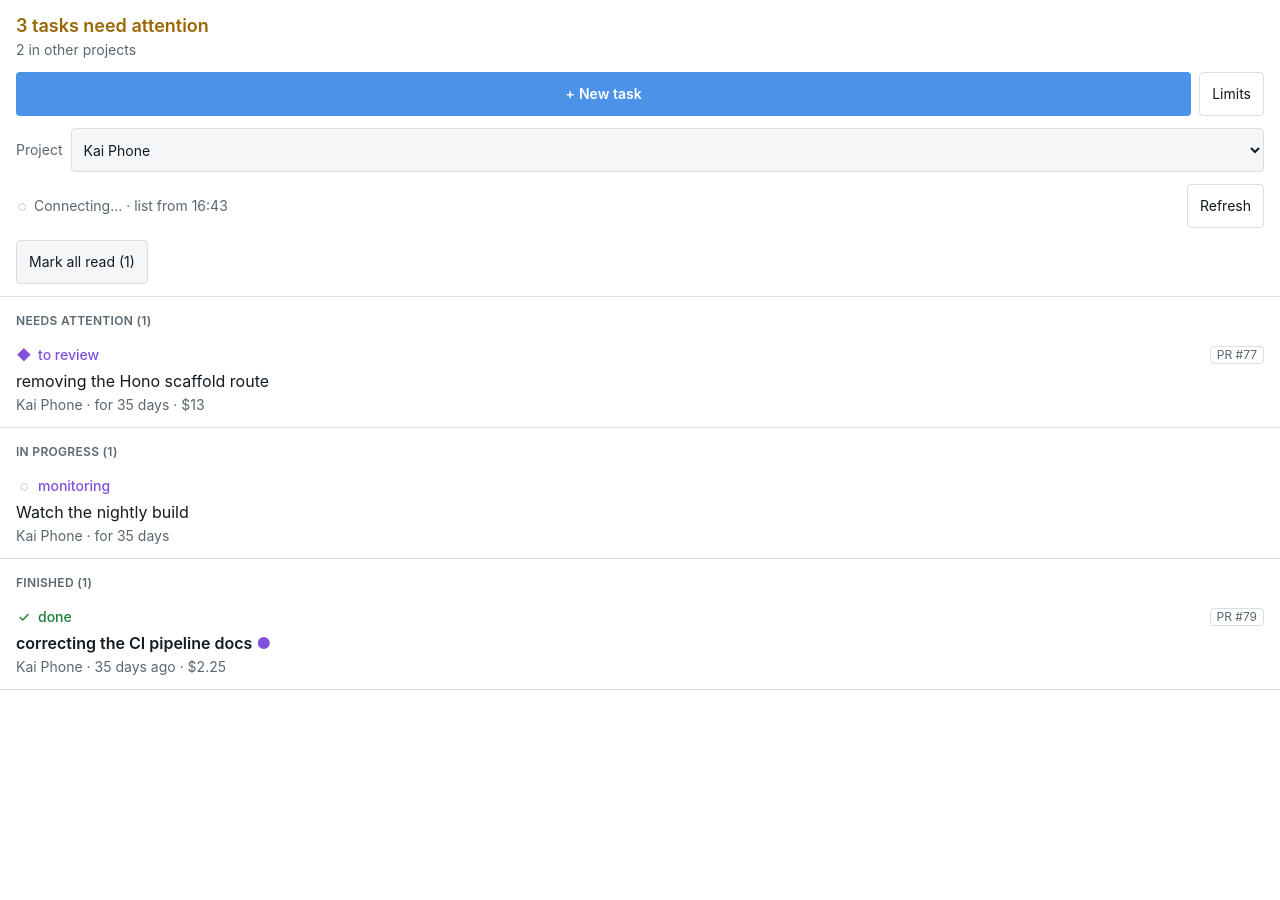
Test: mark all read (#67) › reaches only the filtered project
What coordinates should you click on to do the following:
click the button "Mark all read (1)"
I would click on:
 (82, 262)
Its box is left=16, top=240, right=148, bottom=284.
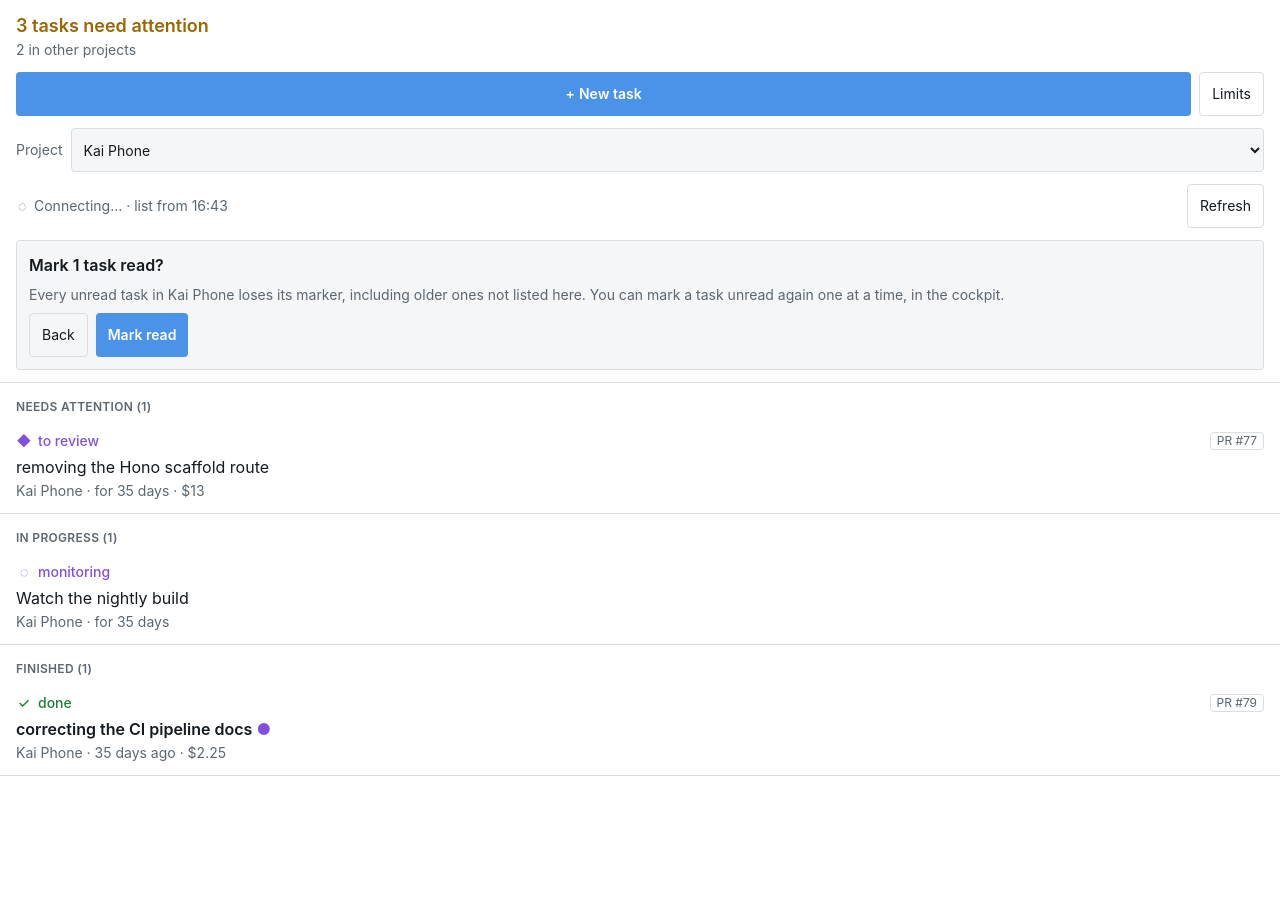
What coordinates should you click on to do the following:
click the button "Mark read"
I would click on:
 (142, 335)
Its box is left=96, top=313, right=188, bottom=357.
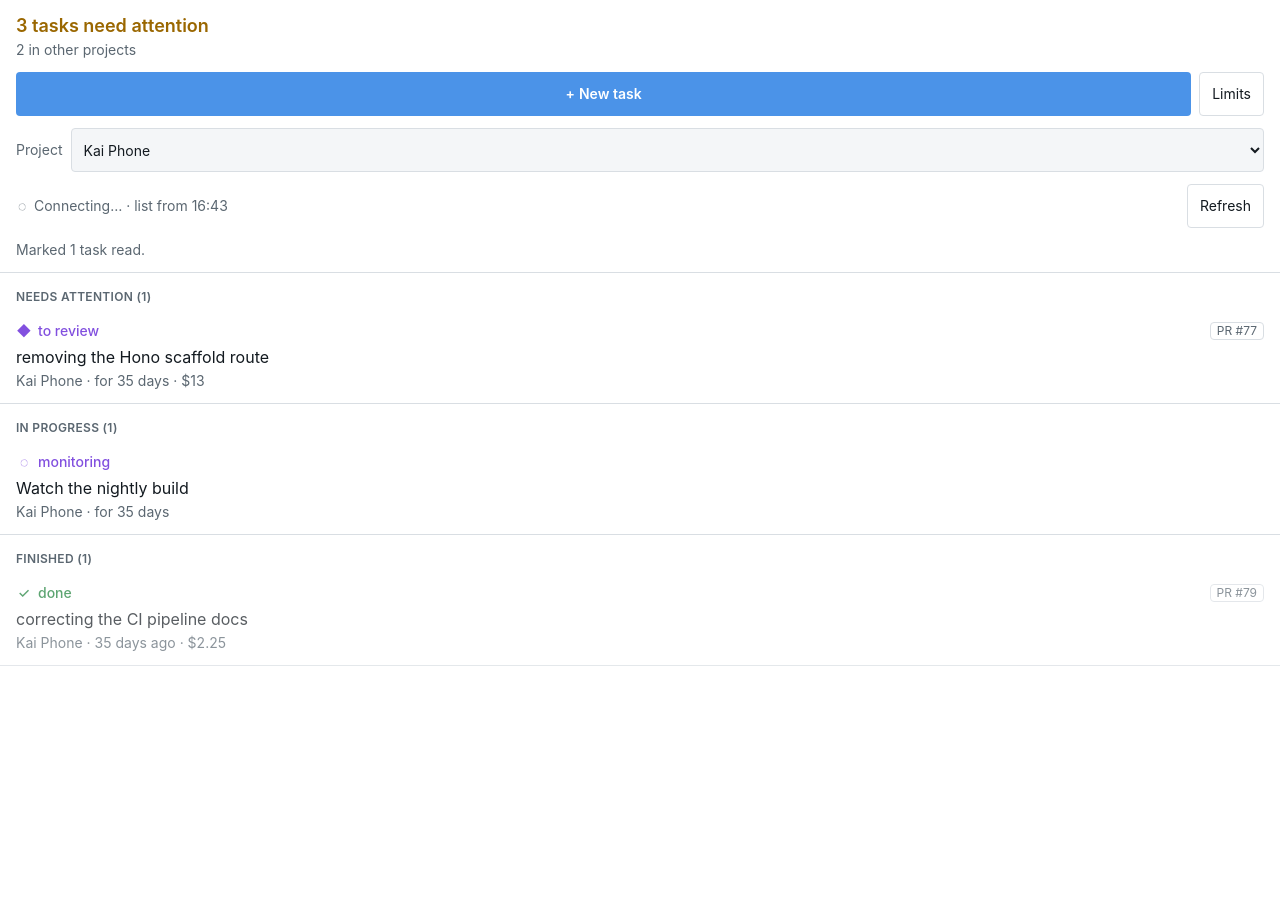
Result: the text "Marked 1 task read." is shown at left=16, top=241, right=145, bottom=258
